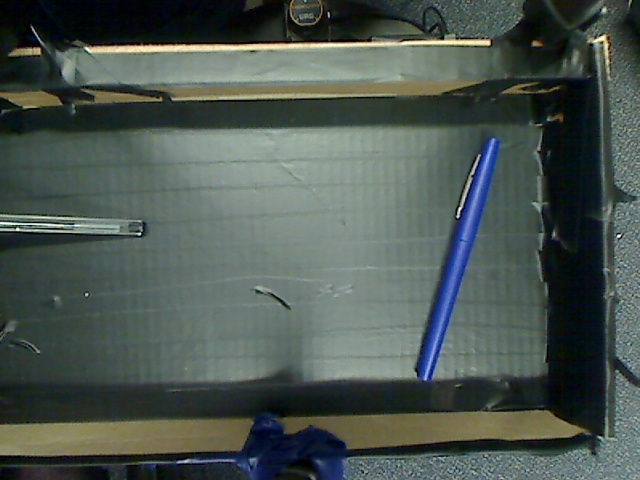pen: (385, 127, 528, 399), (1, 215, 165, 242)
